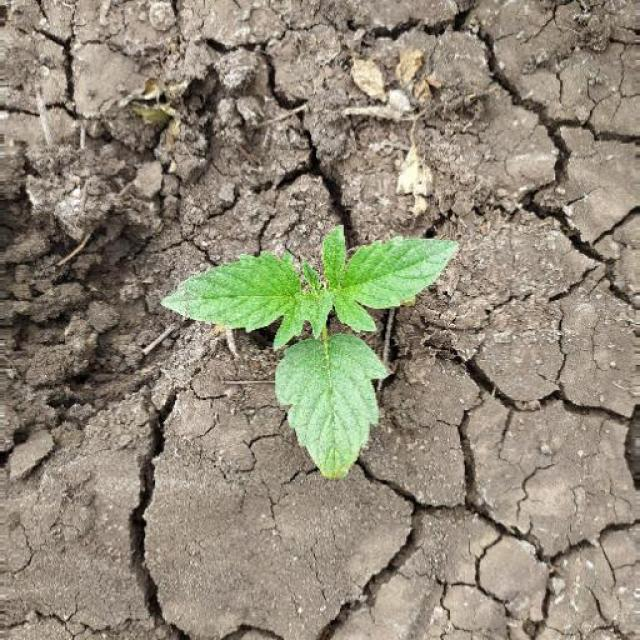crop: (166, 222, 479, 492)
